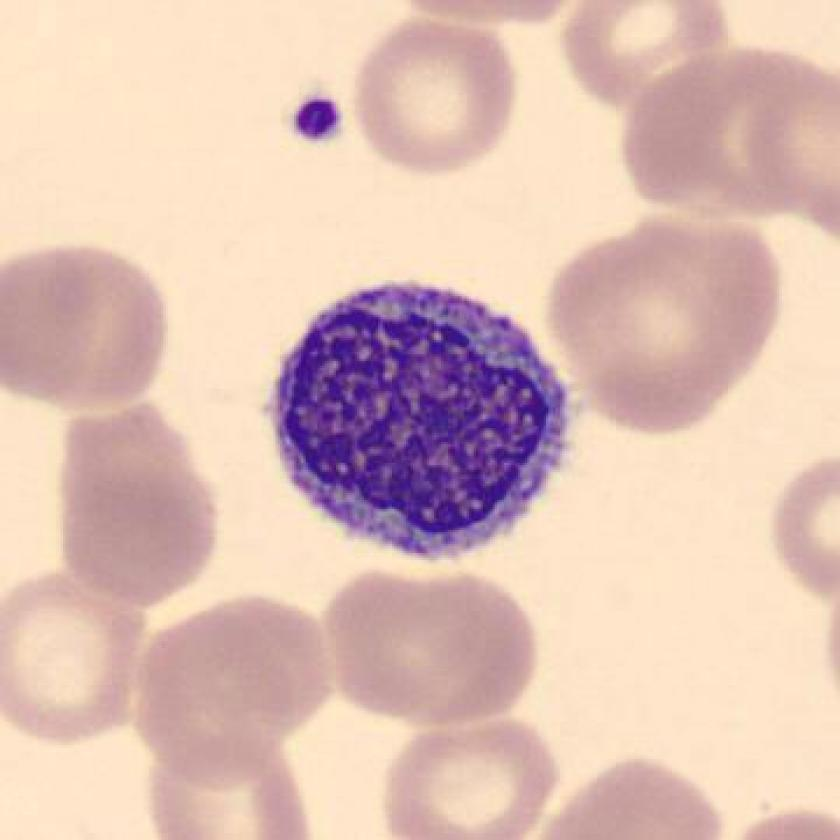monocyte: (248, 260, 594, 580)
